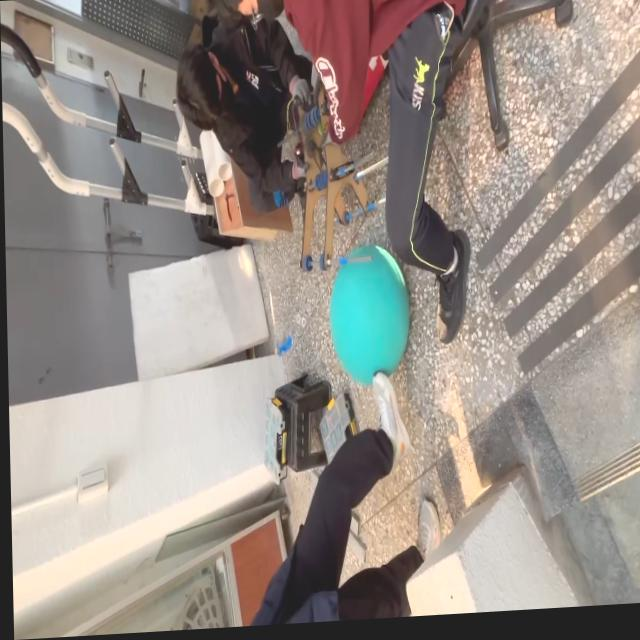ALGAE: (326, 240, 413, 390)
